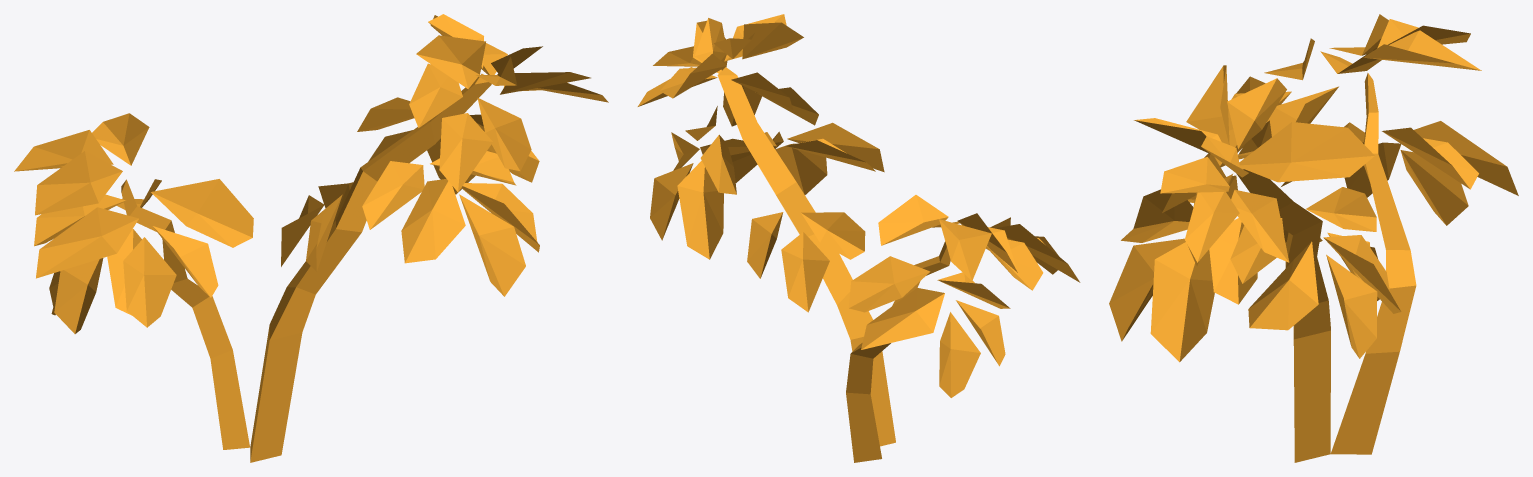
The model's file is SM_Potato_Plant_Ripe_B.fbx.
The picture shows the model from 3 angles, left to right: view 1: azimuth 30°, elevation 25°; view 2: azimuth 150°, elevation 25°; view 3: azimuth 270°, elevation 25°; orthographic projection. The views are drawn at different scales.
Parts seen in each view (by area): view 1: potato-plant-ripe-b; view 2: potato-plant-ripe-b; view 3: potato-plant-ripe-b.
Boxes of the visible parts, bbox=[...] form: potato-plant-ripe-b: bbox=[14, 14, 608, 462]; potato-plant-ripe-b: bbox=[637, 14, 1080, 462]; potato-plant-ripe-b: bbox=[1109, 14, 1518, 462].
Size of the model in its own units: 0.777 by 0.5811 by 0.4593.
